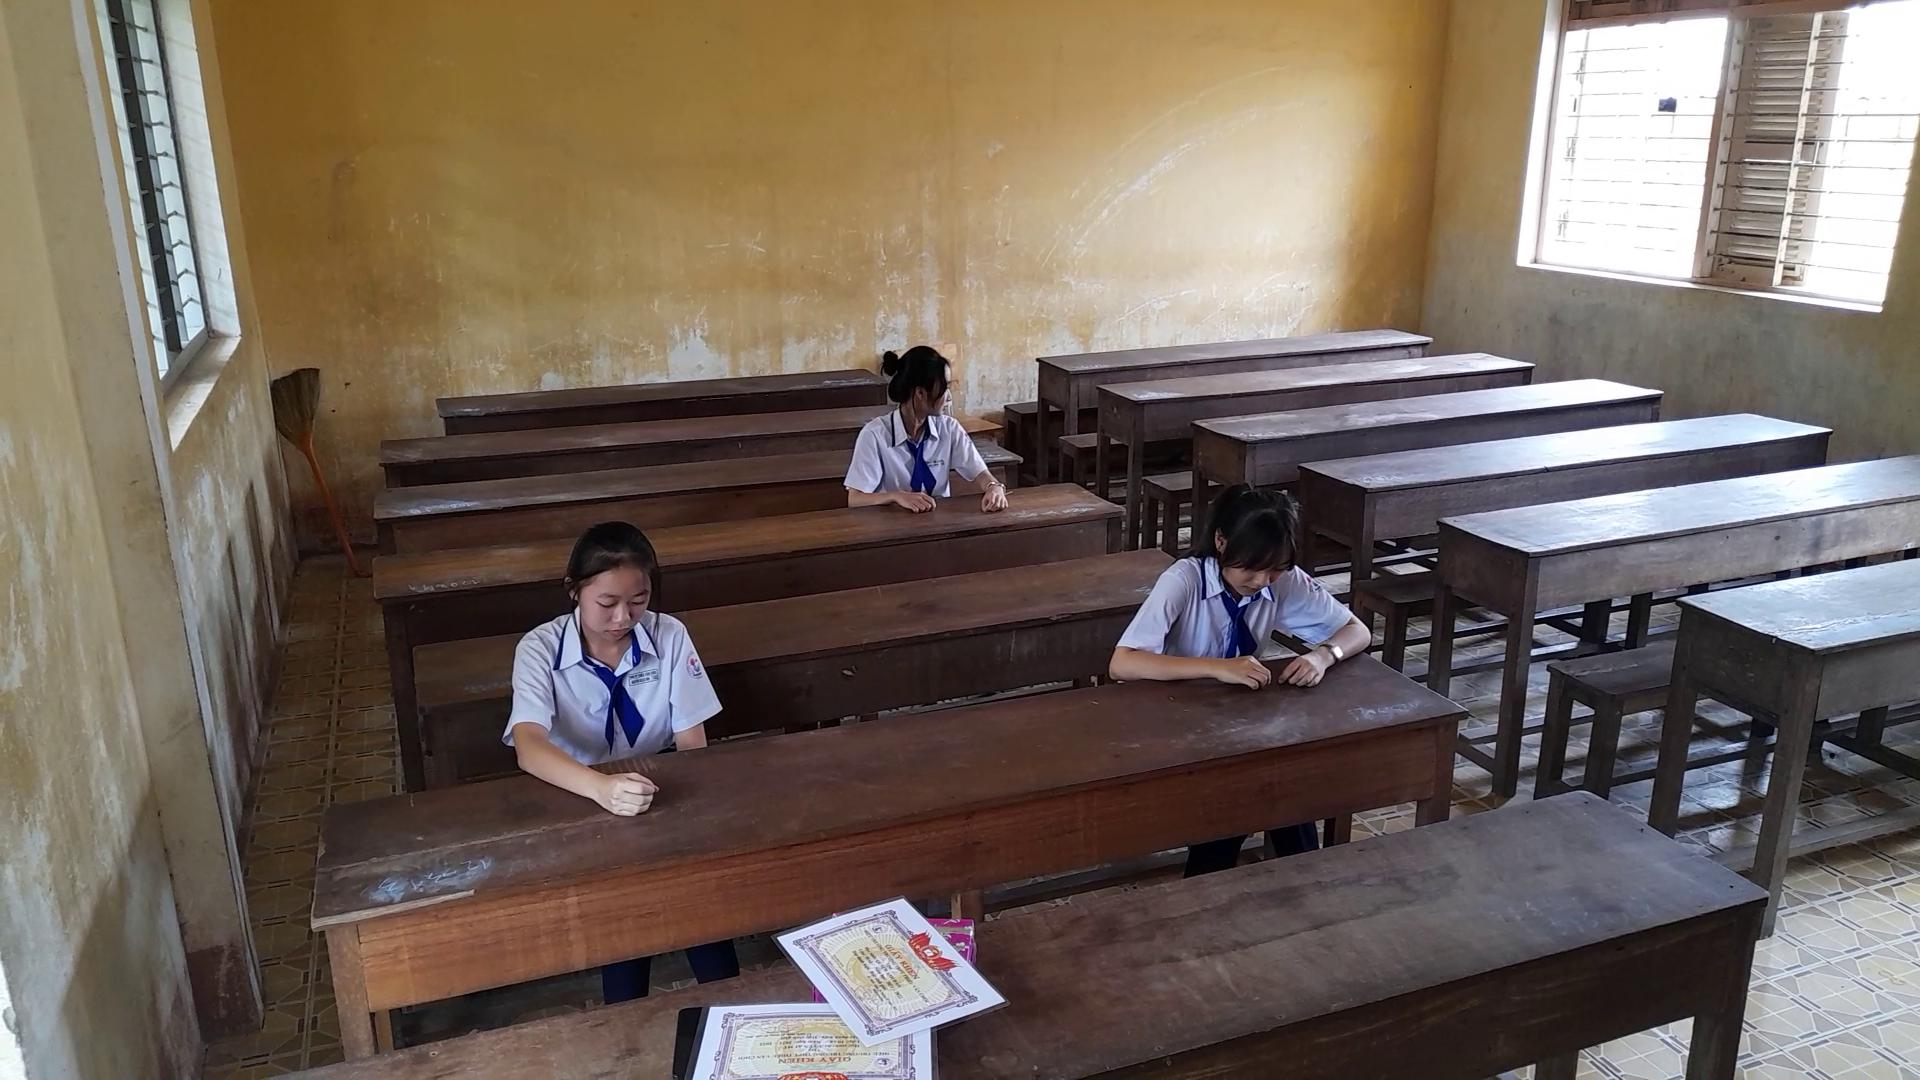Hand Under Table: (653, 615, 735, 769)
Look Around: (870, 339, 978, 439)
Normal: (1109, 480, 1379, 695)
